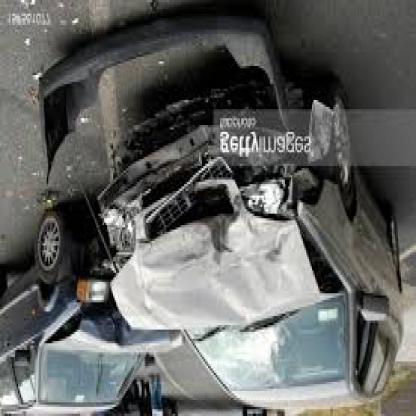dent: (137, 217, 299, 331), (64, 322, 158, 351)
